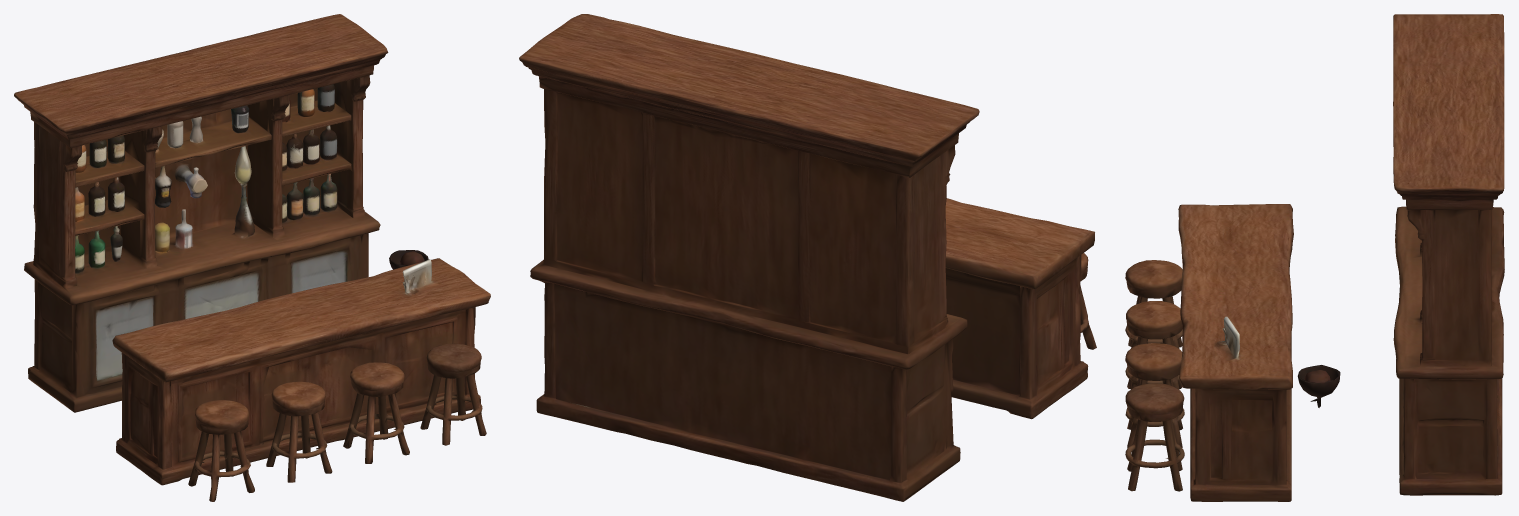
File: bar_balcao.glb
3 renders of one model, left to right at view 1: azimuth 30°, elevation 25°; view 2: azimuth 150°, elevation 25°; view 3: azimuth 270°, elevation 25°, orthographic. The views are drawn at different scales.
Parts seen in each view (by area): view 1: tripo_node_f265e772-4f41-48cd-80e9-e21ae24daeeb; view 2: tripo_node_f265e772-4f41-48cd-80e9-e21ae24daeeb; view 3: tripo_node_f265e772-4f41-48cd-80e9-e21ae24daeeb.
Part boxes in pixels (bbox=[...]): tripo_node_f265e772-4f41-48cd-80e9-e21ae24daeeb: bbox=[14, 14, 490, 501]; tripo_node_f265e772-4f41-48cd-80e9-e21ae24daeeb: bbox=[519, 14, 1096, 501]; tripo_node_f265e772-4f41-48cd-80e9-e21ae24daeeb: bbox=[1125, 14, 1504, 501].
Bounding box in the file's own units: 0.9785 × 0.8221 × 0.8891.
Materials: 1 (1 with a texture image).
